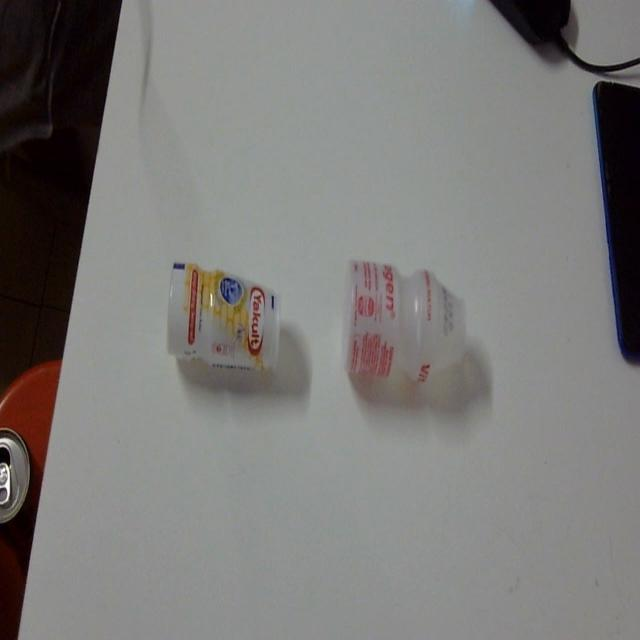plastic_laydown_0rotation: (341, 240, 475, 404), (156, 243, 282, 385)
